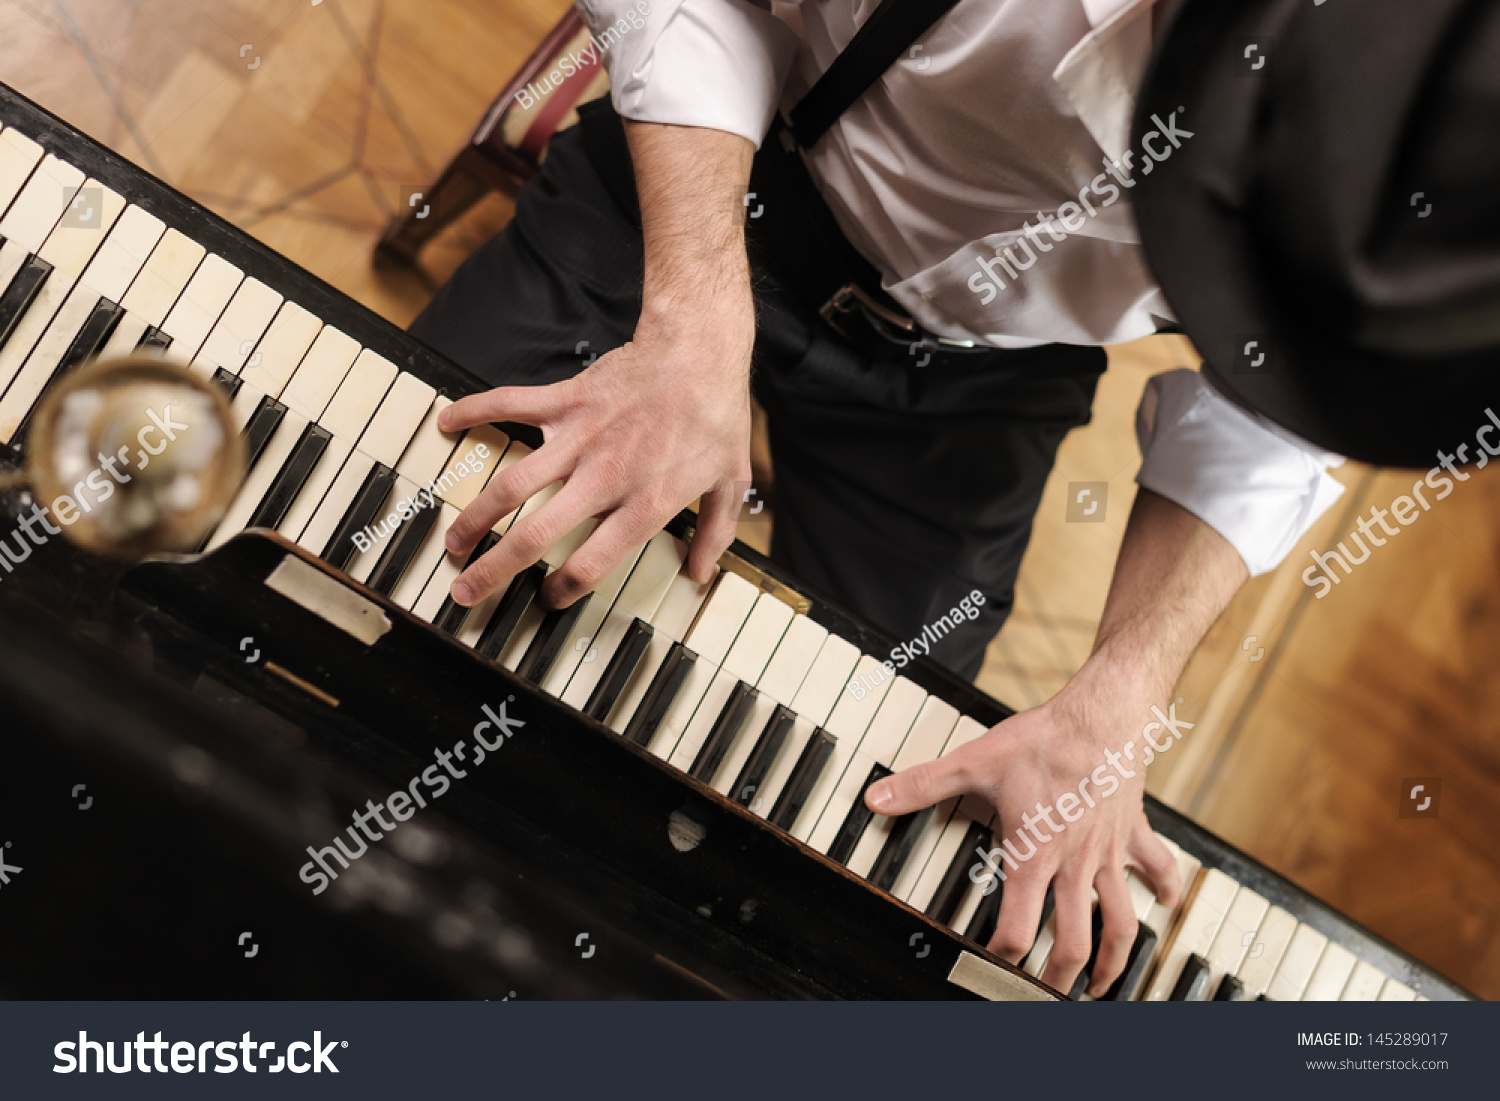Piano: (1, 75, 1469, 1101)
